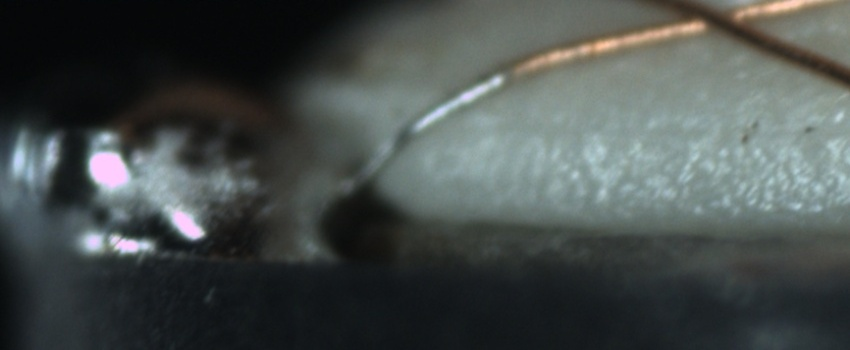CL: (648, 1, 772, 42)
DL: (425, 98, 850, 162)
TS: (339, 68, 513, 196)
